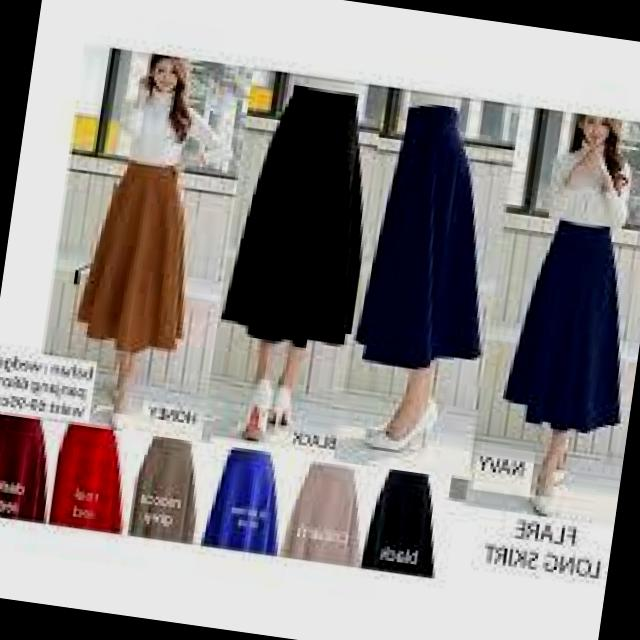skirt: (195, 76, 390, 380), (342, 86, 520, 404), (54, 137, 231, 370), (492, 214, 640, 449)
